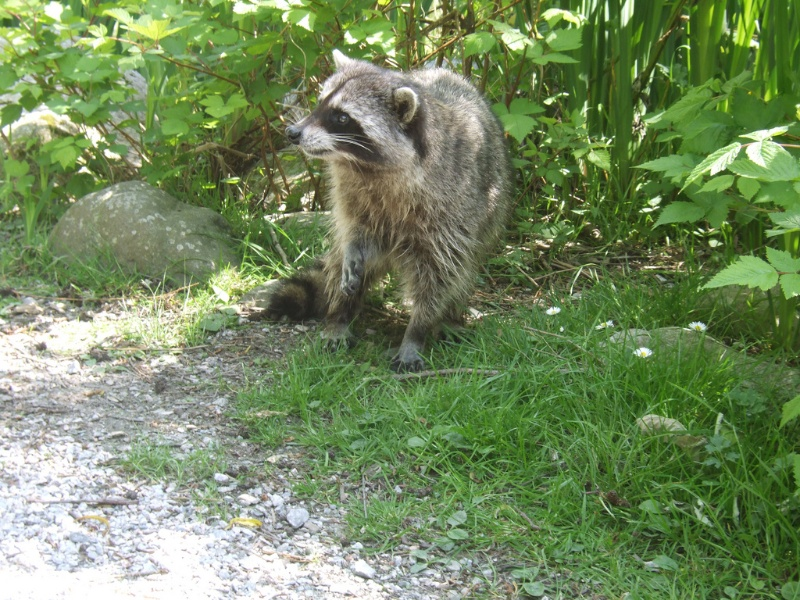raccoon: (247, 44, 511, 365)
